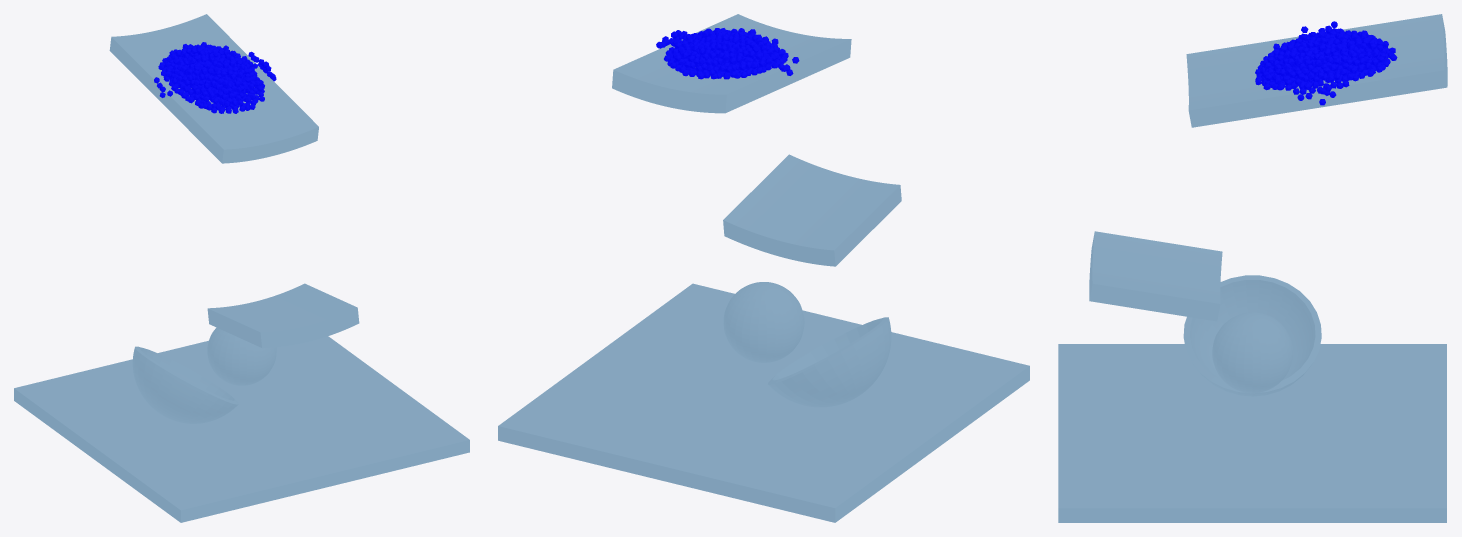
3 views of the same model, side by side, from view 1: azimuth 30°, elevation 25°; view 2: azimuth 150°, elevation 25°; view 3: azimuth 270°, elevation 25° (orthographic). The views are drawn at different scales.
Bounding box in the file's own units: 12 × 13.77 × 12.02.
